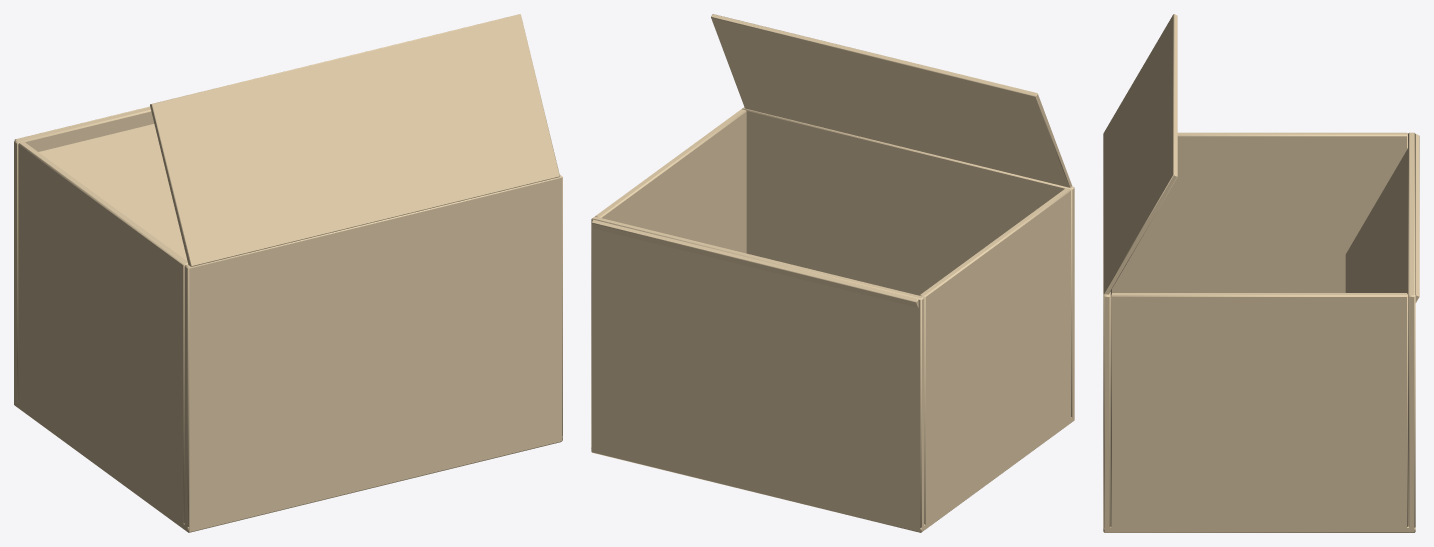
The model's file is cardboard_box.glb.
3 views of the same model, side by side, from view 1: azimuth 30°, elevation 25°; view 2: azimuth 150°, elevation 25°; view 3: azimuth 270°, elevation 25° (orthographic). The views are drawn at different scales.
Visible parts, largest first — view 1: cardboard_box; view 2: cardboard_box; view 3: cardboard_box.
Boxes of the visible parts, x1=… form: cardboard_box: x1=14, y1=14, x2=562, y2=532; cardboard_box: x1=591, y1=14, x2=1074, y2=532; cardboard_box: x1=1103, y1=14, x2=1419, y2=532.
Size of the model in its own units: 0.62 by 0.6314 by 0.5066.
